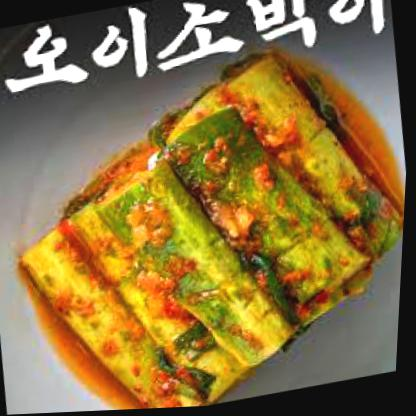cucumber kimchi: (22, 60, 398, 409)
